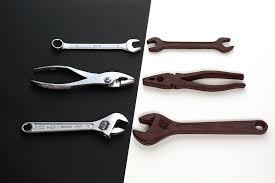wrench: (130, 111, 268, 146), (19, 110, 128, 139), (145, 35, 234, 53)
